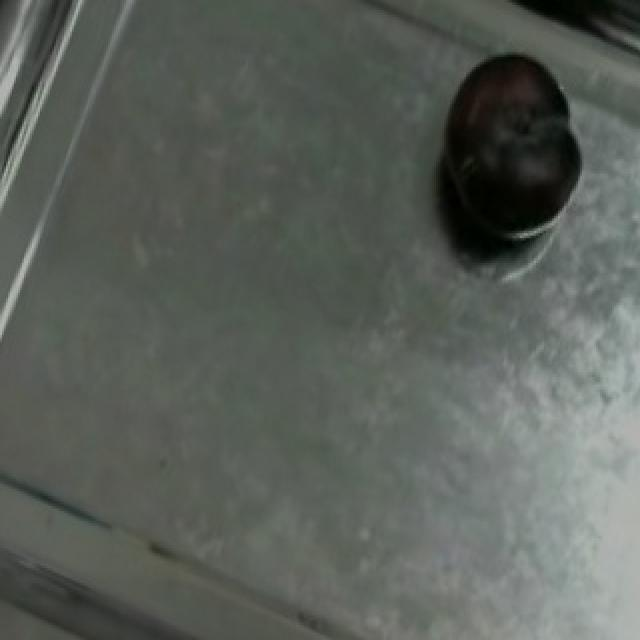Fruit: (428, 32, 598, 253), (556, 0, 640, 67)
